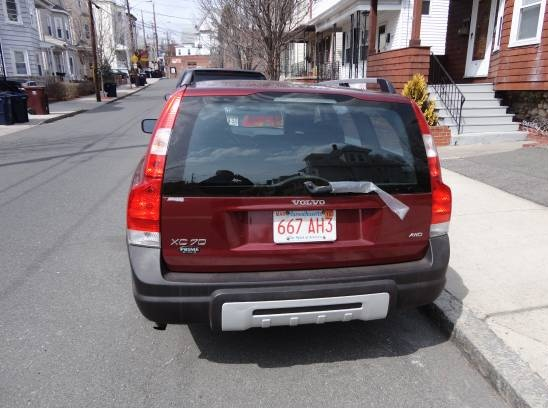volvo: (120, 61, 462, 341)
